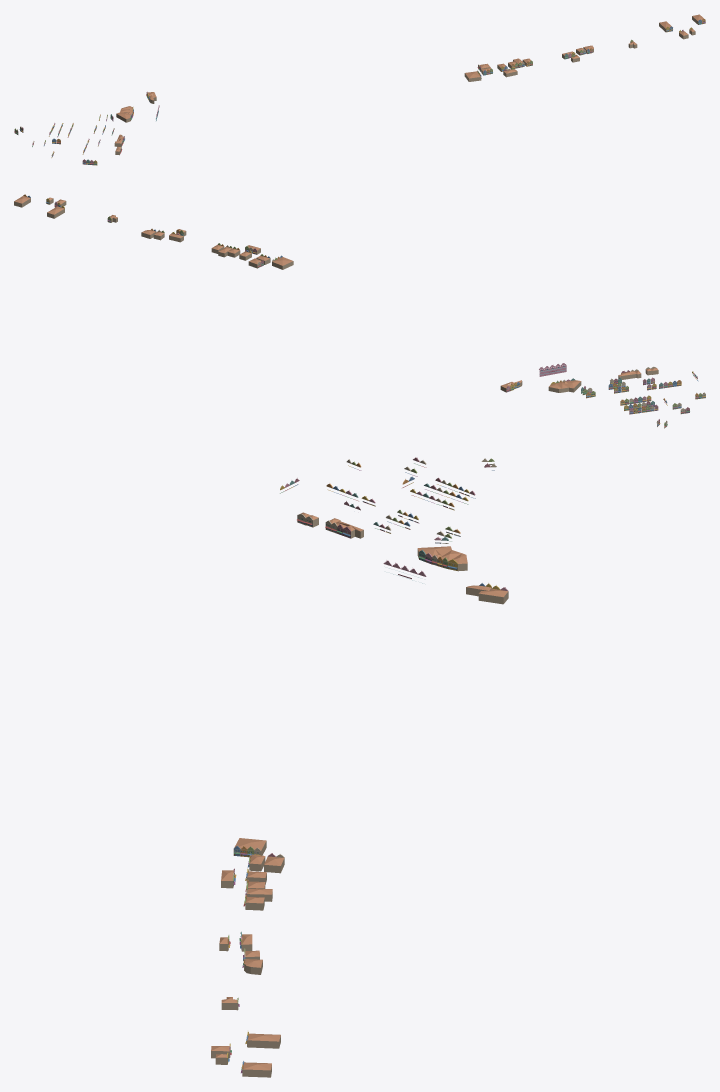
The model's file is ora_lanes.glb.
The picture shows the model from 3 angles, top to bottom: view 1: azimuth 30°, elevation 25°; view 2: azimuth 150°, elevation 25°; view 3: azimuth 270°, elevation 25°; orthographic projection. The views are drawn at different scales.
Visible parts, largest first — view 1: ora_lanes_lod0; view 2: ora_lanes_lod0; view 3: ora_lanes_lod0.
Part boxes in pixels (x1,y1,x2,y2): ora_lanes_lod0: (14,14,705,165); ora_lanes_lod0: (14,194,705,428); ora_lanes_lod0: (211,457,508,1077).
Size of what is drawn, in the model's own units: 1052 by 17.43 by 215.
3 materials, 1 textured.
